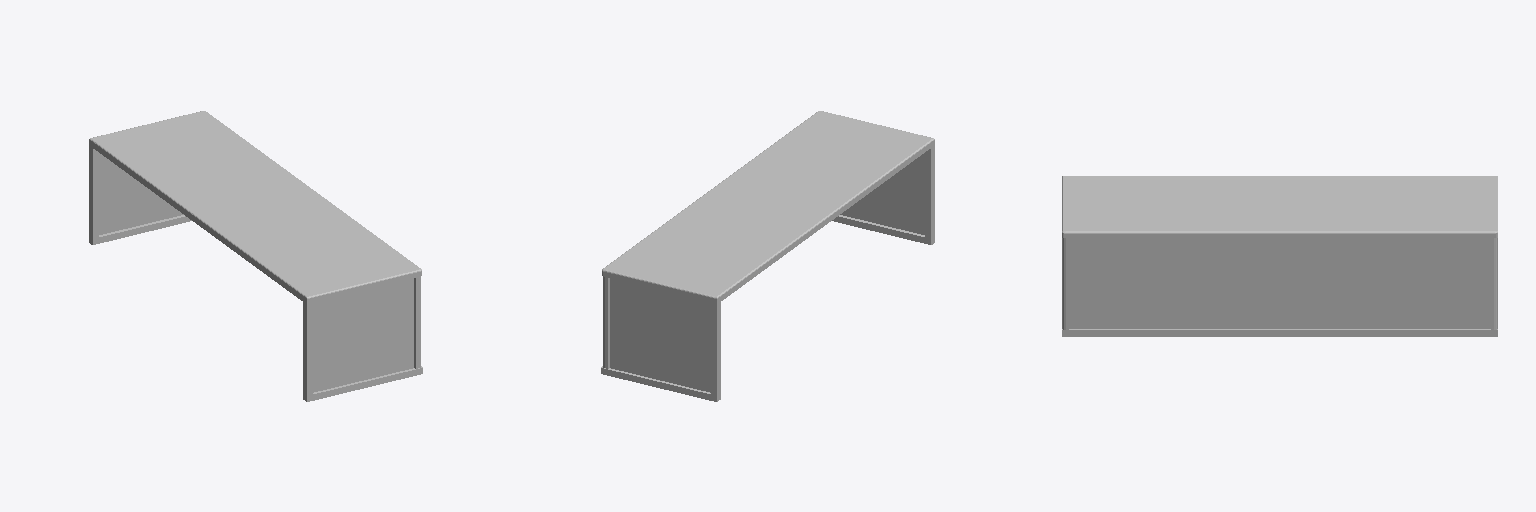
File: WoodDesk.obj
3 renders of one model, left to right at view 1: azimuth 30°, elevation 25°; view 2: azimuth 150°, elevation 25°; view 3: azimuth 270°, elevation 25°, orthographic.
Visible parts, largest first — view 1: SM_WoodDesk; view 2: SM_WoodDesk; view 3: SM_WoodDesk.
Boxes of the visible parts, x1=… form: SM_WoodDesk: x1=89, y1=111, x2=422, y2=401; SM_WoodDesk: x1=601, y1=111, x2=934, y2=401; SM_WoodDesk: x1=1062, y1=176, x2=1497, y2=336.
Bounding box in the file's own units: 0.9029 × 0.776 × 2.94.